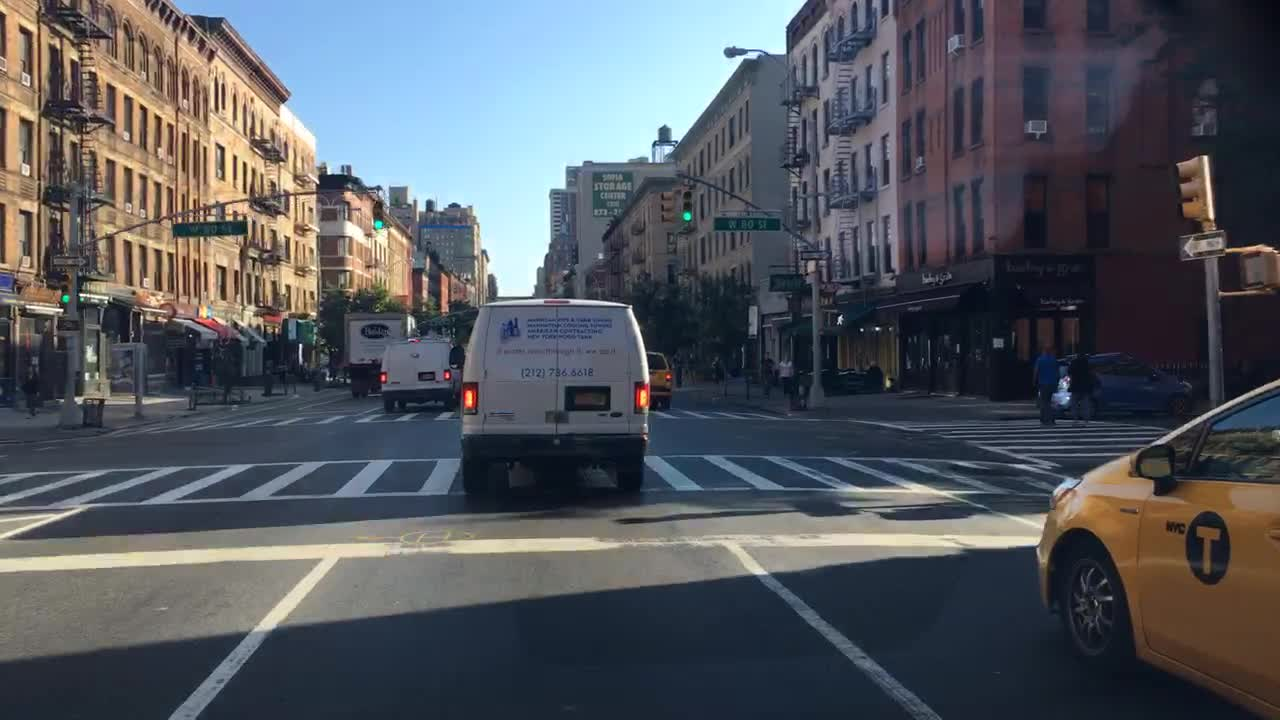car: (1034, 378, 1278, 718), (457, 296, 652, 492), (1036, 350, 1194, 422), (379, 332, 466, 414), (643, 349, 674, 408)
person: (1065, 347, 1101, 423), (1031, 342, 1063, 425), (14, 362, 44, 416), (756, 351, 779, 396), (774, 353, 796, 397), (683, 341, 699, 383), (667, 349, 684, 388), (709, 355, 726, 382)
traffic light: (1218, 242, 1279, 295), (1176, 152, 1214, 228), (680, 191, 694, 225), (371, 200, 385, 229), (58, 272, 69, 305), (824, 309, 844, 327), (76, 294, 85, 305)
traffic sign: (1176, 229, 1228, 262), (172, 220, 248, 236), (712, 215, 785, 231), (768, 273, 803, 292), (50, 255, 90, 267), (800, 249, 833, 262)
truck: (340, 310, 419, 400)
